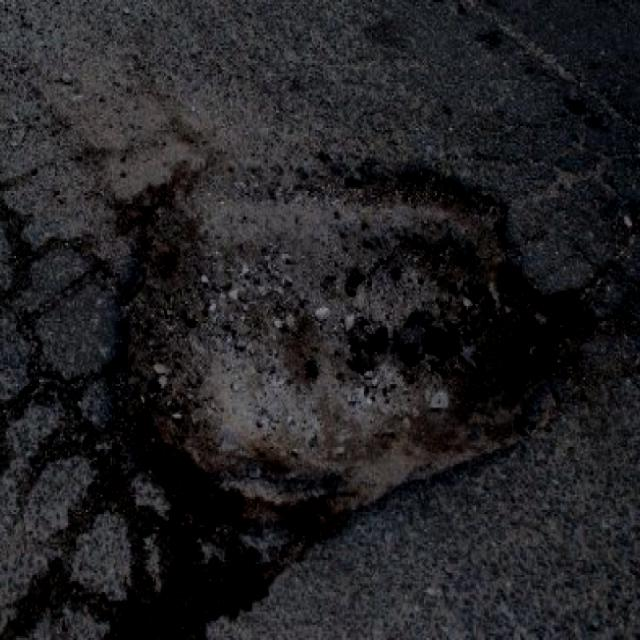Pothole: (115, 134, 606, 550)
